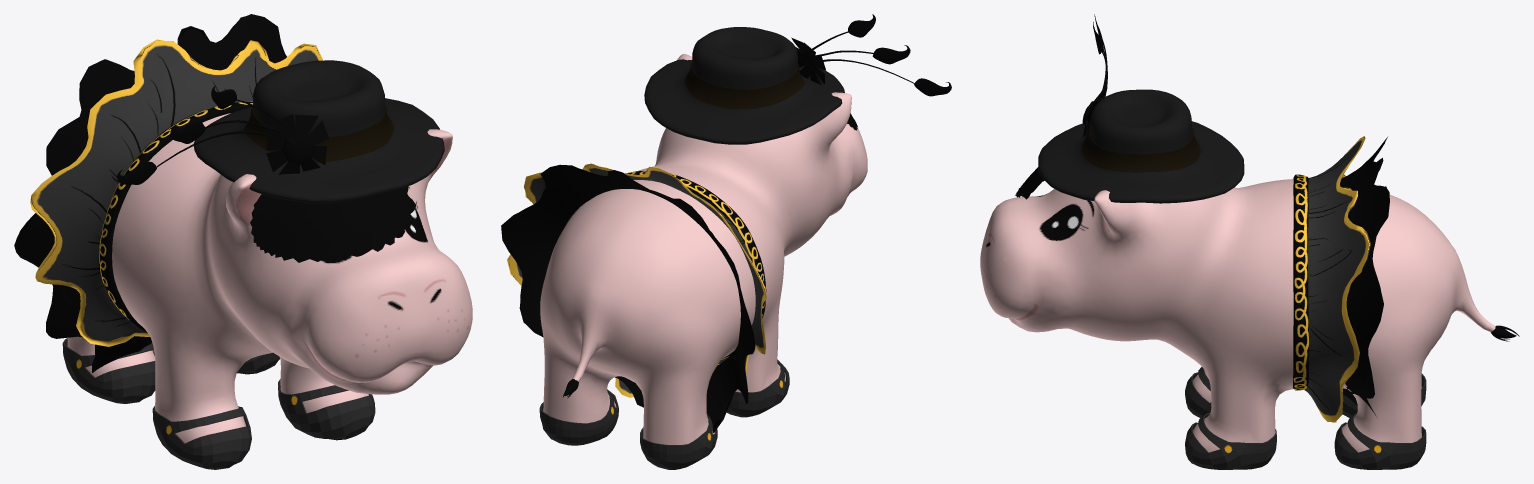
Rendered from SADIE THE HIPPO1 (2).fbx.
3 views of the same model, side by side, from view 1: azimuth 30°, elevation 25°; view 2: azimuth 150°, elevation 25°; view 3: azimuth 270°, elevation 25° (orthographic). The views are drawn at different scales.
Visible parts, largest first — view 1: polySurface20; view 2: polySurface20; view 3: polySurface20.
Boxes of the visible parts, left/top/right/bottom form: polySurface20: left=14, top=14, right=472, bottom=469; polySurface20: left=501, top=14, right=951, bottom=469; polySurface20: left=980, top=14, right=1519, bottom=469.
Size of the model in its own units: 17.75 by 19.14 by 25.19.
9 materials, 4 textured.
